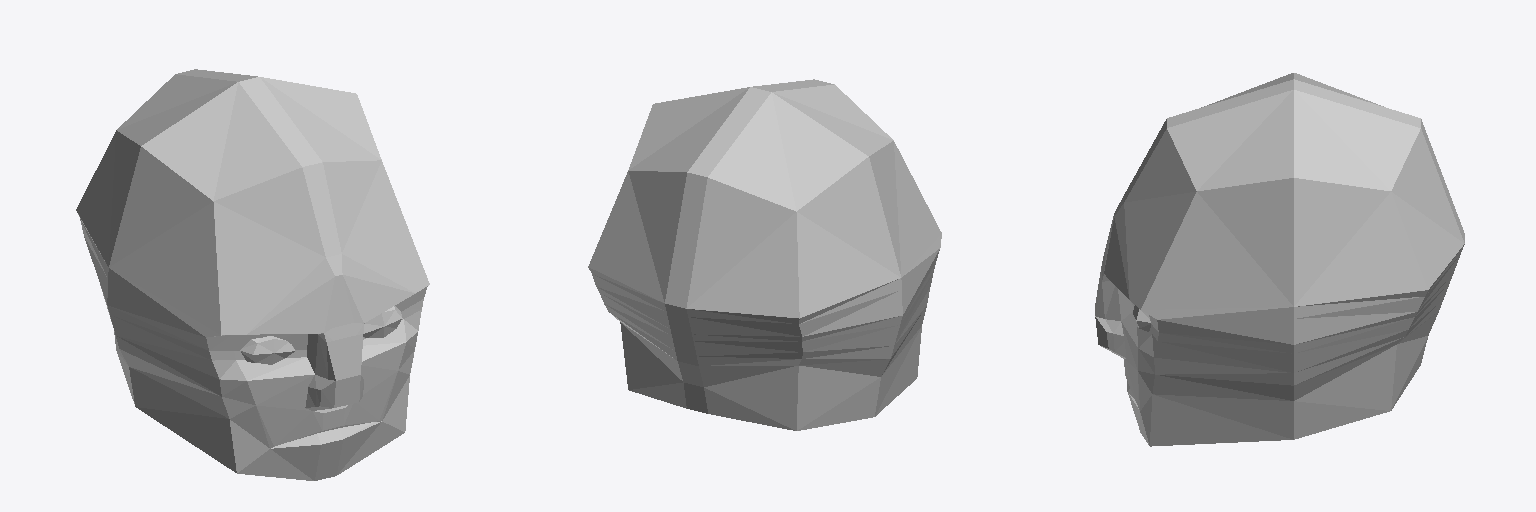
File: Minirice.obj
The picture shows the model from 3 angles: view 1: azimuth 30°, elevation 25°; view 2: azimuth 150°, elevation 25°; view 3: azimuth 270°, elevation 25°; orthographic projection.
Visible parts, largest first — view 1: Box001; view 2: Box001; view 3: Box001.
Part boxes in pixels (bbox=[...]): Box001: bbox=[76, 69, 429, 480]; Box001: bbox=[588, 79, 941, 430]; Box001: bbox=[1095, 73, 1464, 446].
Bounding box in the file's own units: 31.29 × 36.18 × 35.3.